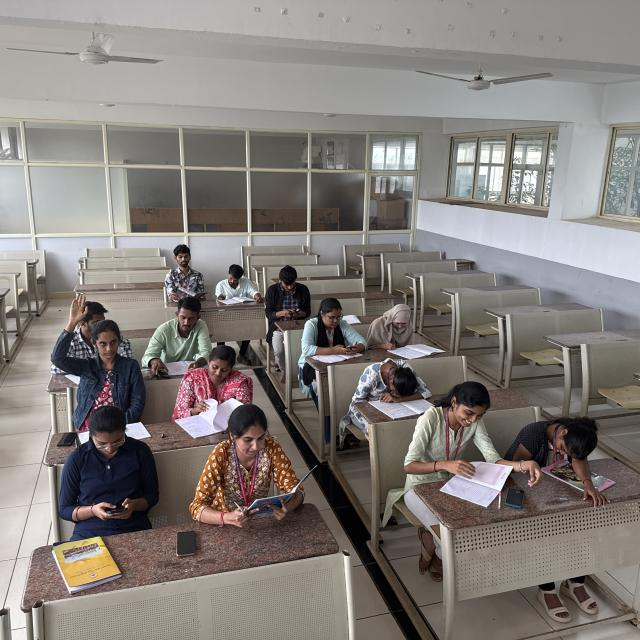Hand Rising: (54, 293, 144, 420)
Reading: (411, 382, 509, 492), (179, 348, 252, 438), (162, 243, 208, 303)
Sleeping: (510, 410, 612, 474), (354, 359, 432, 403)
Using Phone: (76, 410, 144, 524), (302, 297, 370, 361), (266, 265, 310, 319)
Writing: (196, 403, 290, 526), (367, 301, 439, 359), (215, 264, 262, 306)
